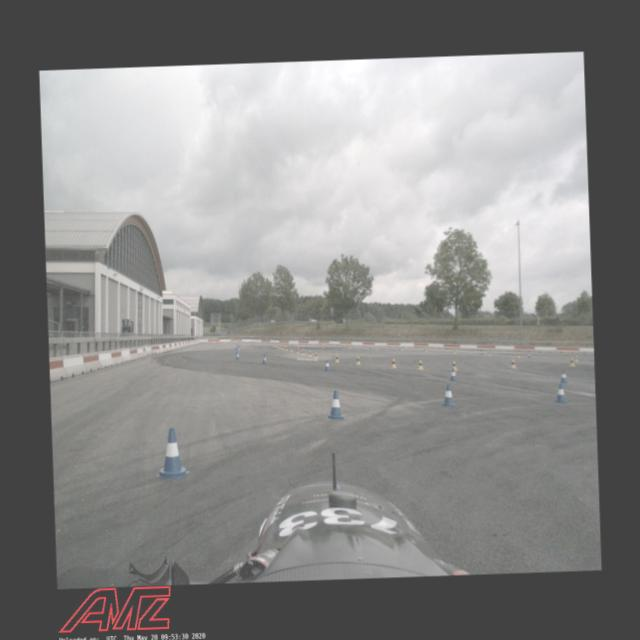blue_cone: (152, 428, 190, 480), (325, 389, 345, 420), (440, 382, 456, 407), (553, 382, 567, 402), (558, 369, 568, 383), (448, 368, 458, 381), (324, 358, 331, 372), (234, 351, 240, 362), (261, 354, 267, 364), (528, 352, 532, 358)
yellow_cone: (416, 359, 424, 370), (450, 360, 457, 372), (333, 353, 340, 363), (390, 357, 396, 368), (510, 358, 516, 368), (568, 356, 574, 366), (294, 348, 300, 356), (356, 356, 360, 364), (574, 354, 578, 362), (307, 350, 311, 358), (289, 345, 293, 353), (313, 351, 317, 358), (516, 351, 520, 358), (300, 348, 304, 355)
